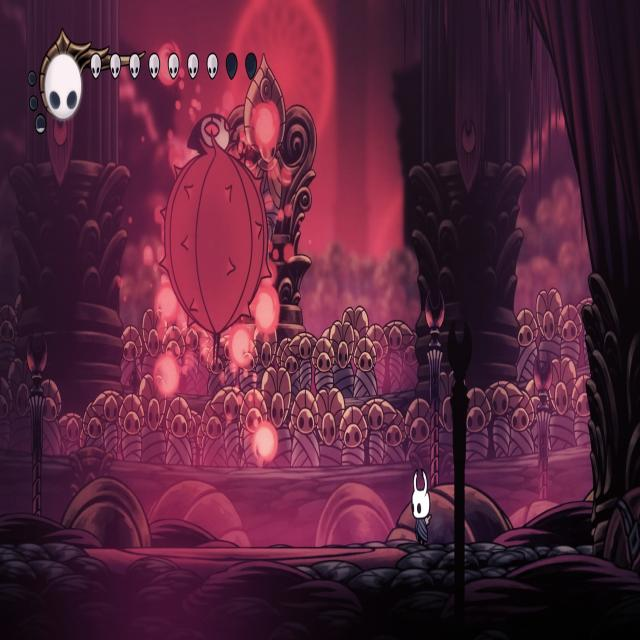Player: (411, 463, 435, 548)
Pufferfish: (156, 109, 275, 367)
Tiny Fireballs: (253, 103, 281, 158), (253, 286, 280, 335), (154, 353, 180, 399), (230, 325, 255, 369), (255, 423, 279, 465), (157, 285, 181, 324)
